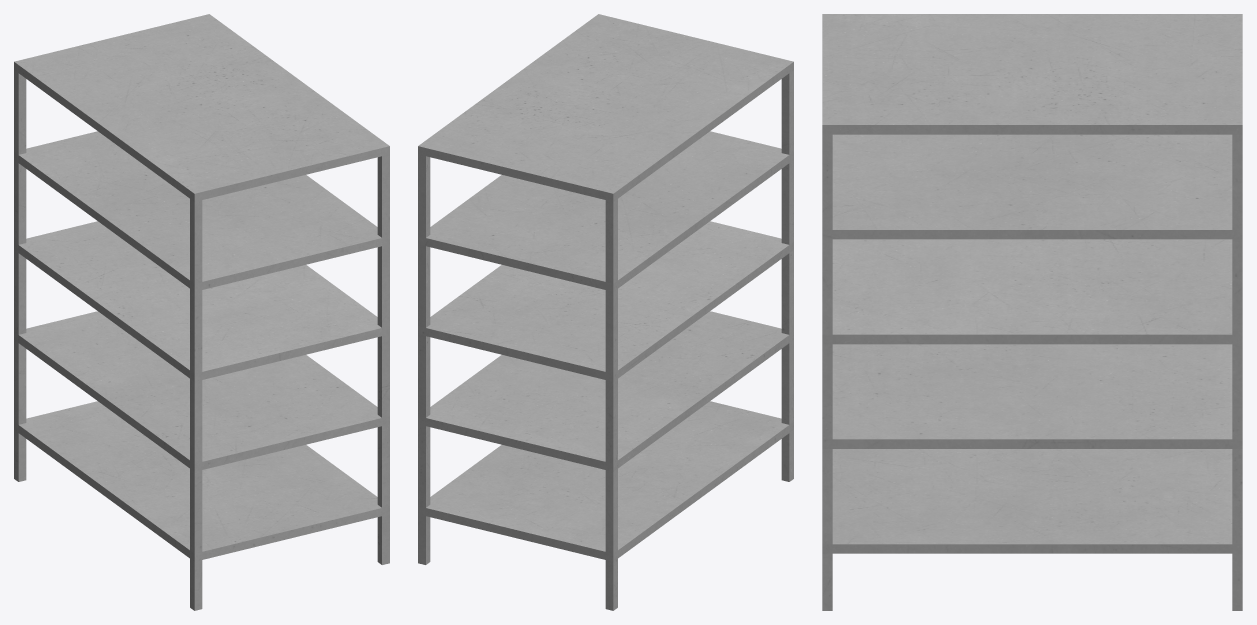
The model's file is rack.obj.
3 views of the same model, side by side, from view 1: azimuth 30°, elevation 25°; view 2: azimuth 150°, elevation 25°; view 3: azimuth 270°, elevation 25° (orthographic). The views are drawn at different scales.
Parts seen in each view (by area): view 1: rack; view 2: rack; view 3: rack.
Part boxes in pixels (<box>): rack: <box>14,14,389,610</box>; rack: <box>418,14,793,610</box>; rack: <box>822,14,1242,610</box>.
Bounding box in the file's own units: 0.5 × 1.02 × 0.8.
Materials: 1 (1 with a texture image).
